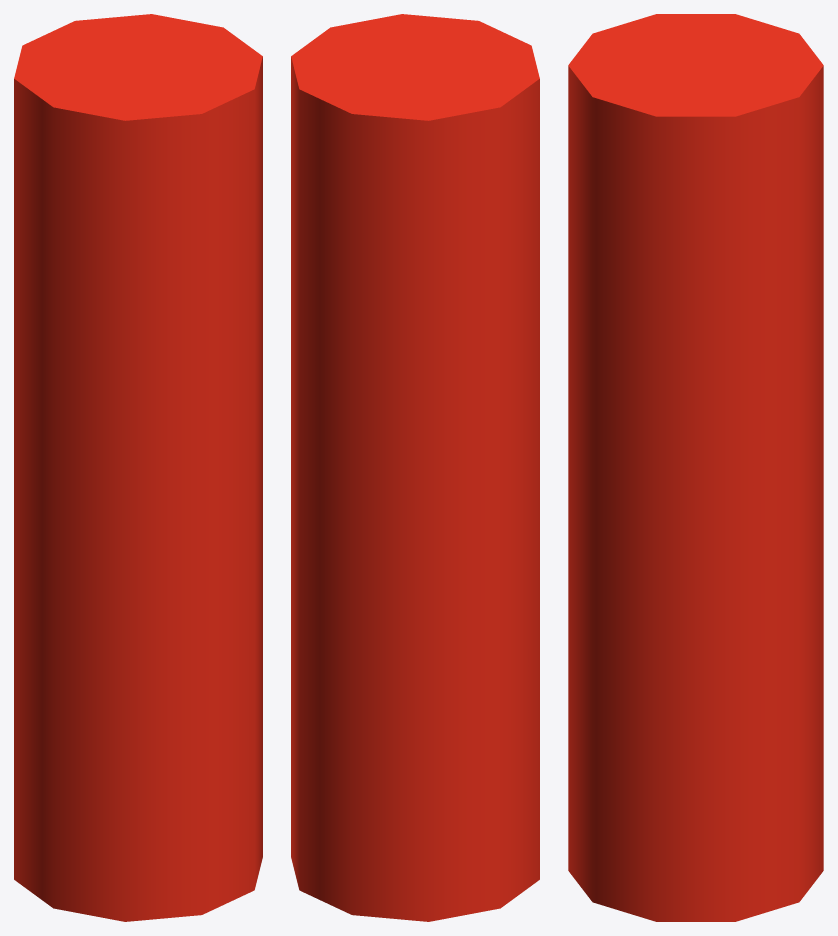
File: column_ionic_aegean_collision.glb
3 renders of one model, left to right at view 1: azimuth 30°, elevation 25°; view 2: azimuth 150°, elevation 25°; view 3: azimuth 270°, elevation 25°, orthographic.
Visible parts, largest first — view 1: column_ionic_aegean-col; view 2: column_ionic_aegean-col; view 3: column_ionic_aegean-col.
Boxes of the visible parts, x1,y1,x2,y2 form: column_ionic_aegean-col: (14, 14, 262, 921); column_ionic_aegean-col: (291, 14, 539, 921); column_ionic_aegean-col: (568, 14, 823, 921).
Bounding box in the file's own units: 1.18 × 4.31 × 1.24.
